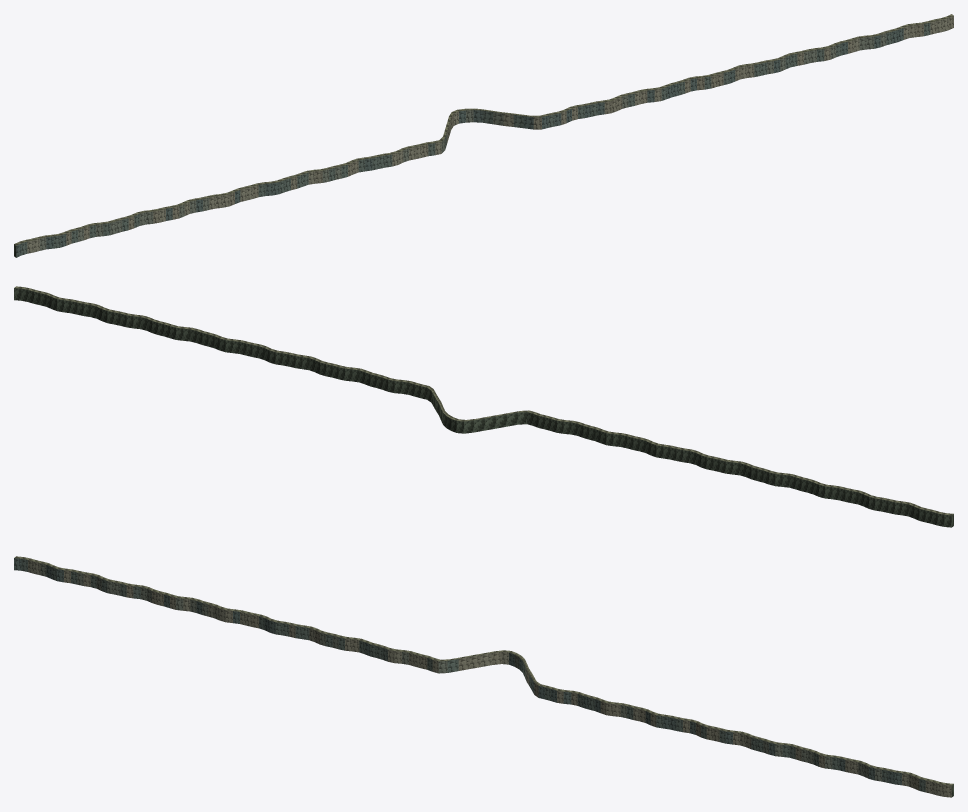
The model's file is river_bank.glb.
3 renders of one model, top to bottom at view 1: azimuth 30°, elevation 25°; view 2: azimuth 150°, elevation 25°; view 3: azimuth 330°, elevation 25°, orthographic.
Parts seen in each view (by area): view 1: river_bank; view 2: river_bank; view 3: river_bank.
Part boxes in pixels (x1,y1,x2,y2): river_bank: [14, 14, 953, 257]; river_bank: [14, 286, 953, 527]; river_bank: [14, 556, 953, 797].
Size of the model in its own units: 60 by 0.745 by 3.29.
Materials: 2 (2 with a texture image).
